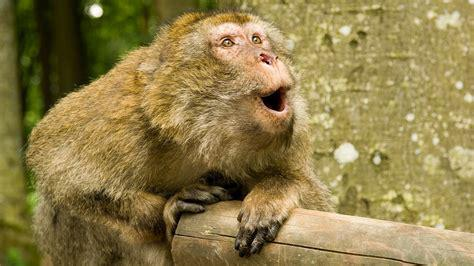monkey: (28, 14, 331, 255)
